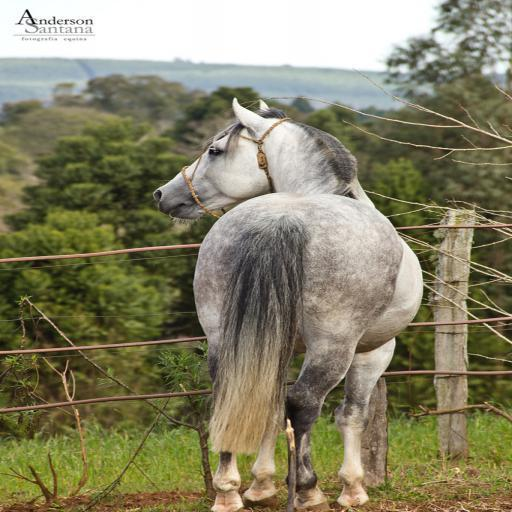horse: (152, 95, 423, 512)
